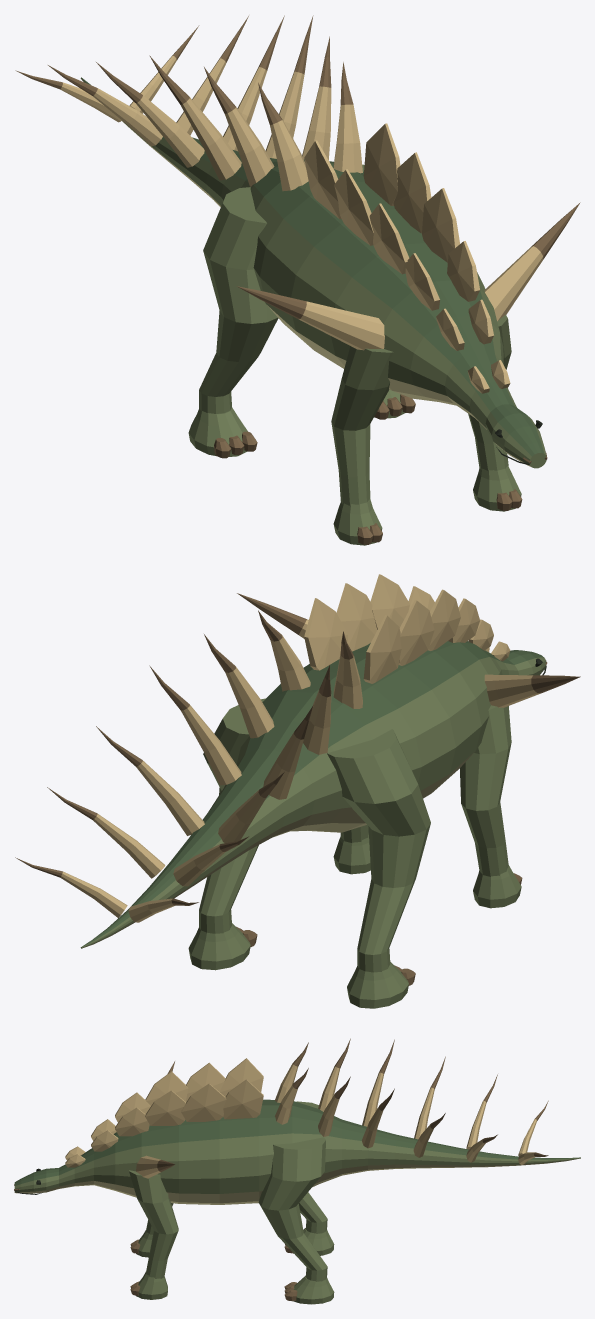
The picture shows the model from 3 angles, top to bottom: view 1: azimuth 30°, elevation 25°; view 2: azimuth 150°, elevation 25°; view 3: azimuth 270°, elevation 25°; orthographic projection. The views are drawn at different scales.
Visible parts, largest first — view 1: Body-neck-tail-limbs, Paired-plates-and-spines; view 2: Body-neck-tail-limbs, Paired-plates-and-spines; view 3: Body-neck-tail-limbs, Paired-plates-and-spines.
Part boxes in pixels (x1,y1,x2,y2): Body-neck-tail-limbs: [80, 77, 546, 545]; Paired-plates-and-spines: [15, 15, 580, 544]; Body-neck-tail-limbs: [80, 641, 546, 1008]; Paired-plates-and-spines: [15, 574, 580, 985]; Body-neck-tail-limbs: [14, 1099, 580, 1304]; Paired-plates-and-spines: [14, 1038, 548, 1301].
Bounding box in the file's own units: 2.18 × 2.13 × 5.01.
